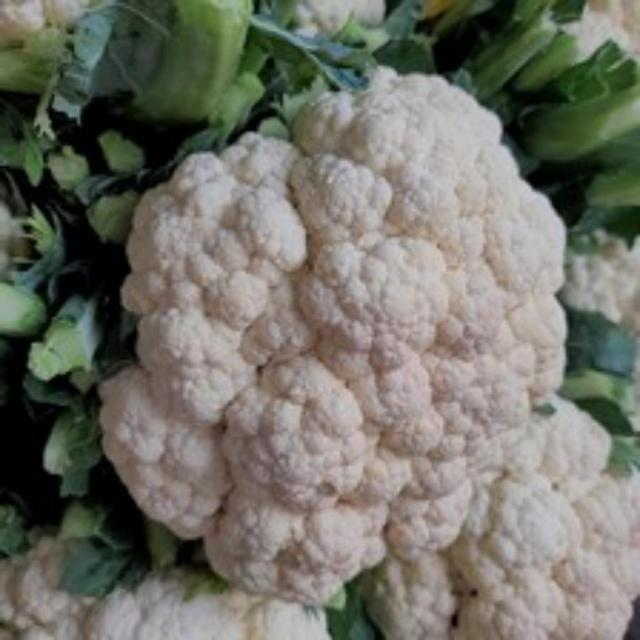cauliflower: (101, 64, 594, 608)
